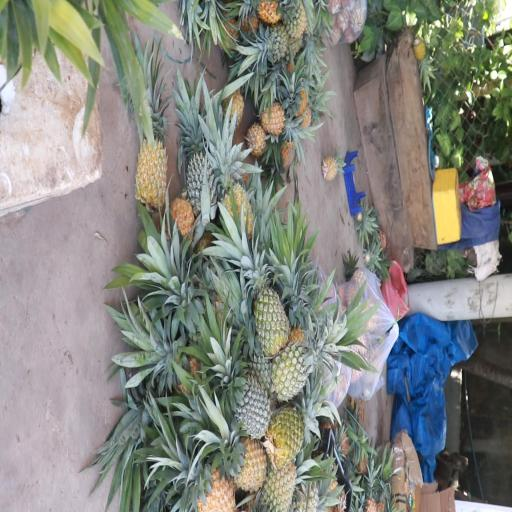------------------------------: (278, 320, 332, 402), (272, 393, 336, 462), (246, 258, 291, 354)
Pineapple - v8 v1: (132, 70, 170, 210), (172, 439, 236, 512), (217, 133, 257, 244), (216, 419, 269, 491), (259, 450, 298, 512), (257, 94, 306, 142)
